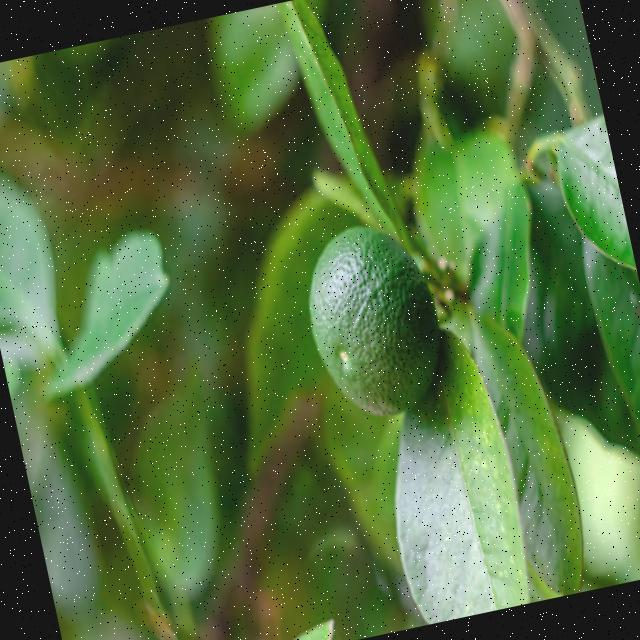Unripe: (290, 212, 452, 427)
